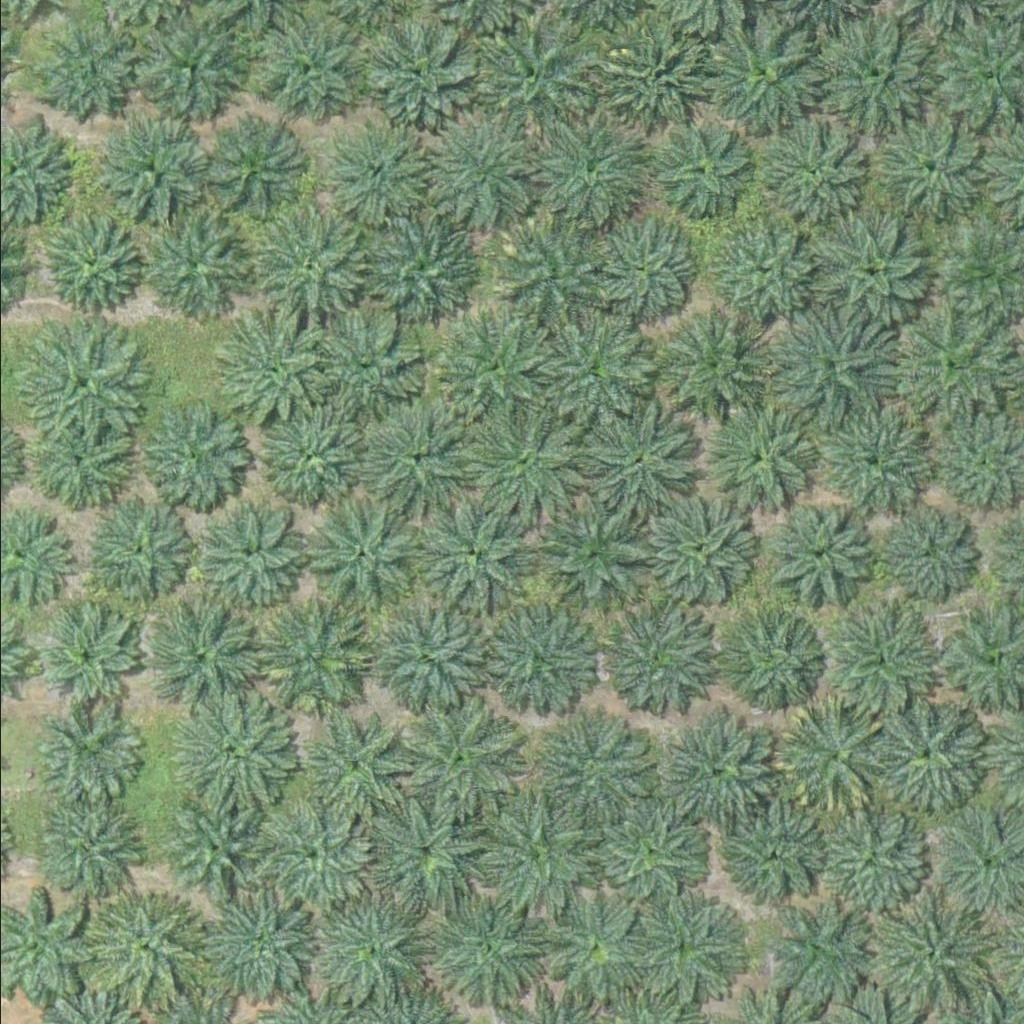Kelapa_Sawit: (861, 887, 987, 1012), (857, 689, 983, 814), (760, 300, 886, 425), (797, 211, 923, 336), (621, 886, 747, 1011), (585, 793, 711, 918), (808, 11, 934, 136), (599, 22, 725, 147), (476, 12, 602, 137), (347, 13, 473, 138), (127, 6, 253, 131), (409, 108, 535, 233), (519, 109, 645, 234), (356, 206, 482, 331), (245, 202, 371, 327), (200, 310, 326, 435), (298, 303, 424, 428), (461, 395, 587, 520), (357, 397, 483, 522), (250, 393, 376, 518), (129, 389, 255, 514), (179, 491, 305, 616), (296, 491, 422, 616), (593, 598, 719, 723), (475, 601, 601, 726), (249, 597, 375, 722), (133, 596, 259, 721), (393, 694, 519, 819), (525, 701, 651, 826), (653, 706, 779, 831), (462, 790, 588, 915), (359, 784, 485, 909), (237, 792, 363, 917), (186, 879, 312, 1004), (300, 887, 426, 1012), (421, 882, 547, 1007), (18, 318, 144, 443), (761, 696, 886, 821), (819, 598, 944, 723), (576, 396, 701, 521), (414, 497, 539, 622), (526, 497, 651, 622), (363, 597, 488, 722), (167, 692, 292, 817), (872, 112, 986, 225), (749, 125, 863, 238), (756, 893, 869, 1006), (816, 805, 929, 918), (247, 11, 360, 124), (704, 217, 817, 330), (540, 310, 653, 423), (585, 212, 698, 325), (487, 219, 600, 332), (26, 13, 139, 126), (812, 410, 925, 522), (895, 304, 1008, 416), (702, 20, 815, 132), (197, 118, 310, 230), (661, 310, 774, 422), (131, 207, 244, 319), (699, 406, 812, 518), (89, 894, 202, 1006), (727, 800, 828, 900), (727, 610, 828, 710), (767, 505, 868, 605), (874, 497, 975, 597), (647, 120, 748, 220), (446, 318, 547, 418), (644, 500, 745, 600), (300, 717, 401, 817), (34, 798, 135, 898), (35, 697, 136, 797), (32, 607, 133, 707), (85, 495, 186, 595), (36, 409, 137, 509), (315, 130, 415, 230), (539, 898, 639, 998), (42, 212, 142, 312), (98, 124, 198, 224), (164, 802, 253, 889)
